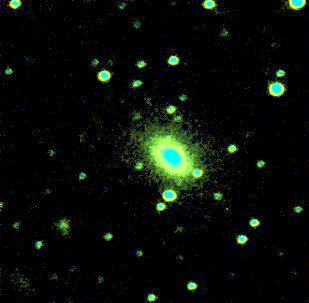star: (177, 141, 207, 171)
